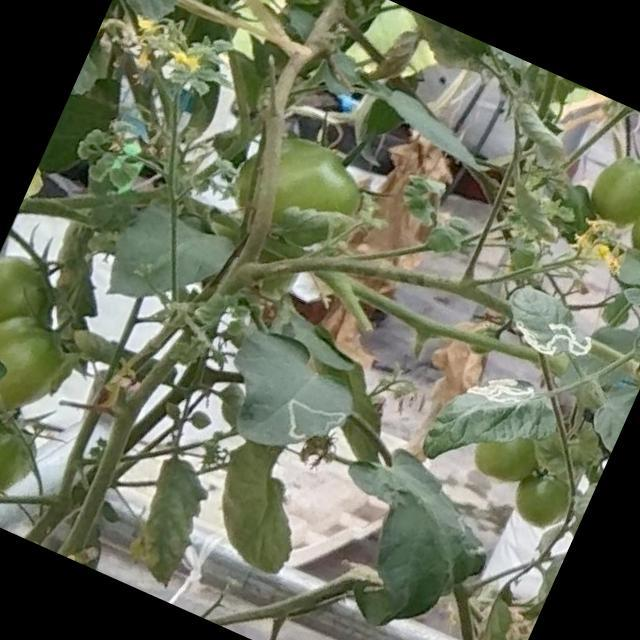Tomato target spot leaf: (195, 304, 377, 476), (410, 342, 574, 506), (490, 276, 612, 384)
